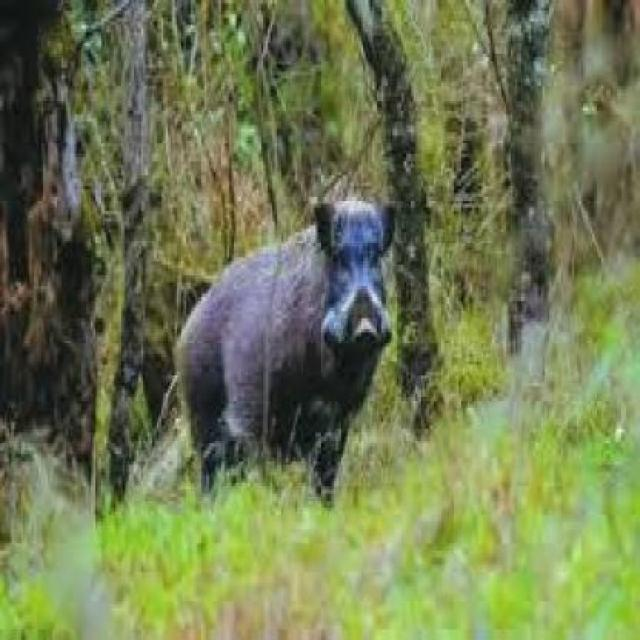wildboar: (166, 188, 405, 526)
